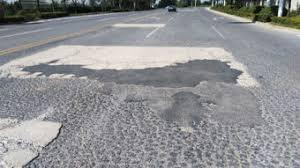pothole: (26, 53, 249, 90), (0, 112, 70, 168)
